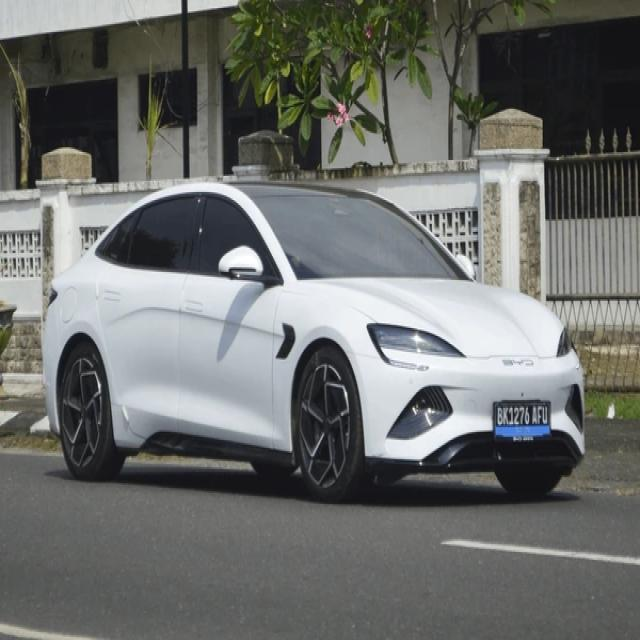byd: (500, 357, 542, 372)
